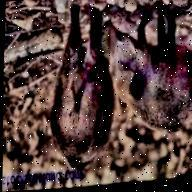boar: (30, 11, 120, 184), (101, 1, 192, 146)
